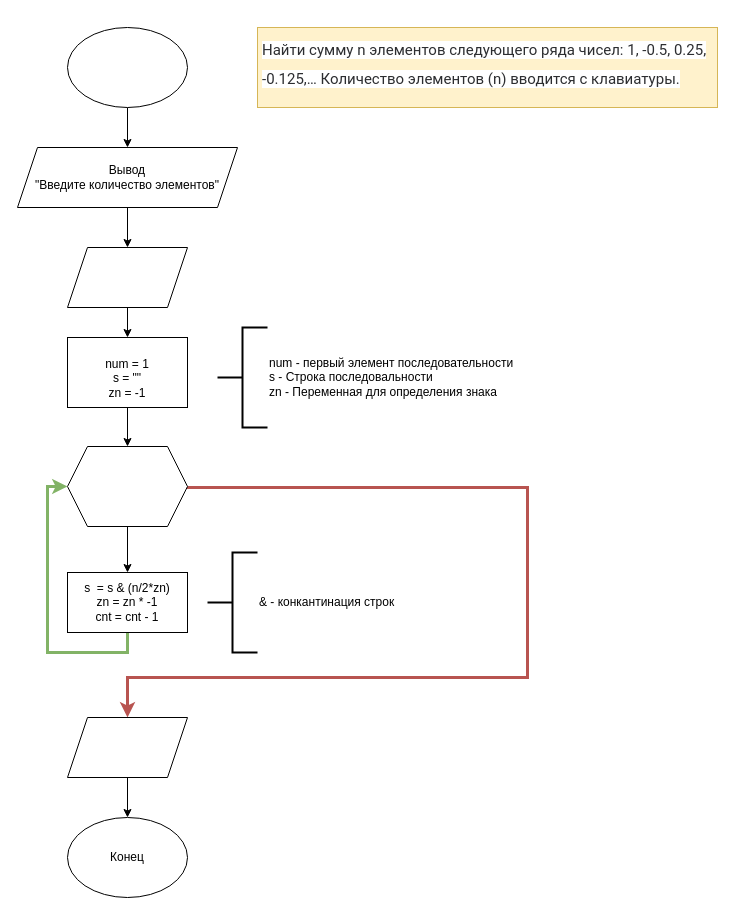
Image size: 735x915. Some labels were removed from this diagram. The shapes that lost their labels are listed below. From the top down, each one's centre as x and y in pixels, then its label:
point (127, 67): Начало
point (127, 277): Ввод cnt
point (127, 486): cnt > 0
point (127, 747): Вывод s
